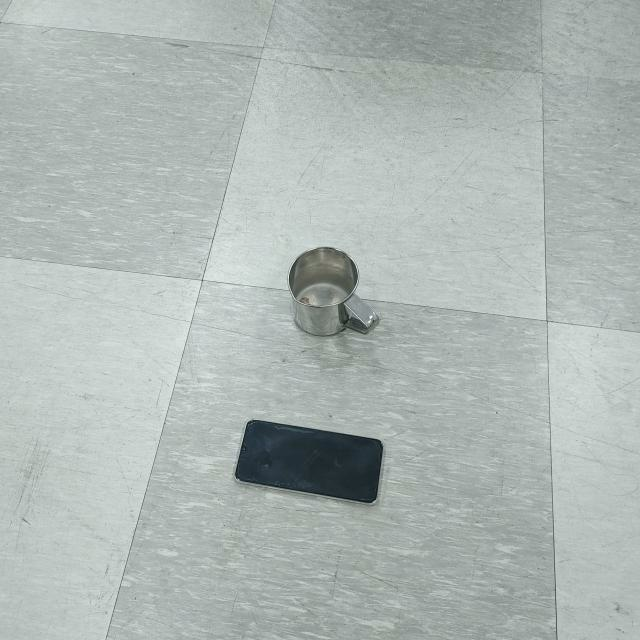cup: (287, 245, 381, 340)
phone: (234, 416, 384, 509)
